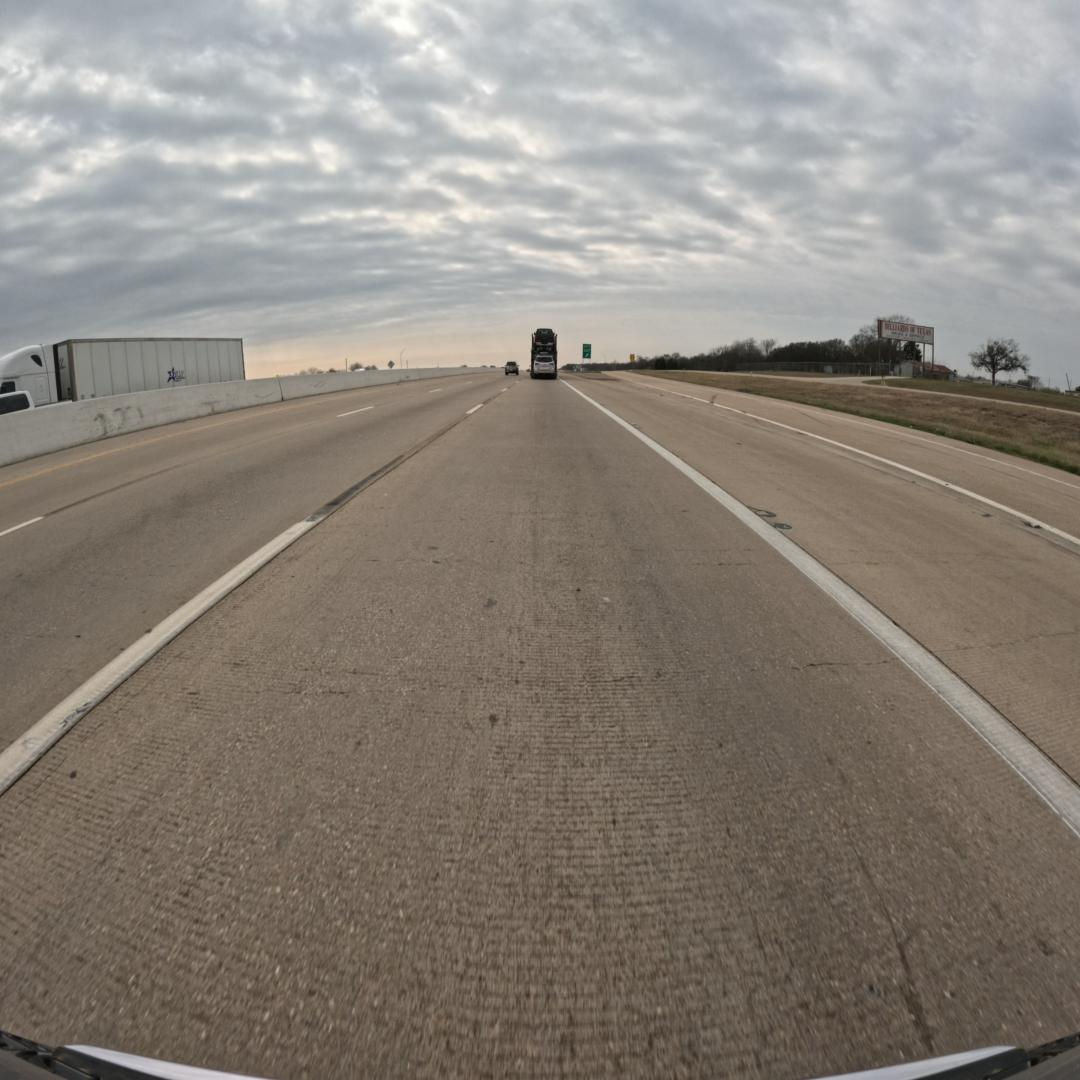lane0: (0, 380, 1080, 1076)
lane1: (0, 377, 518, 794)
